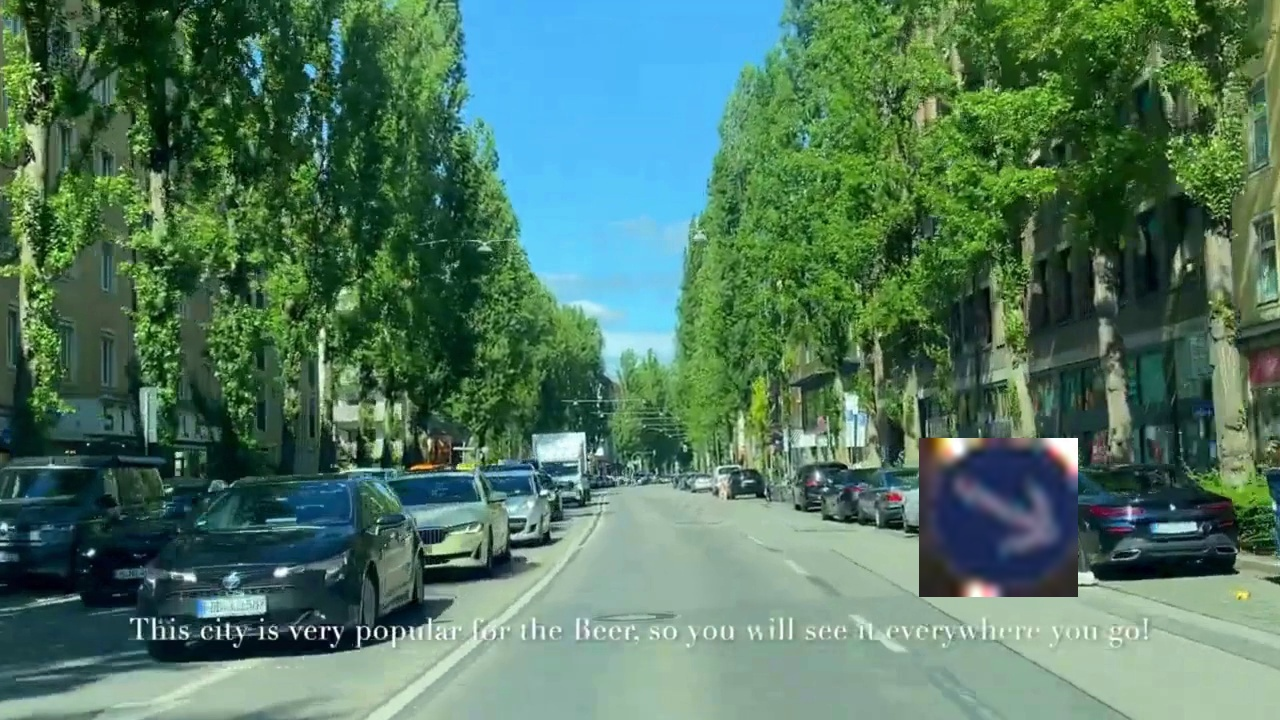Keep right: (919, 438, 1078, 597)
